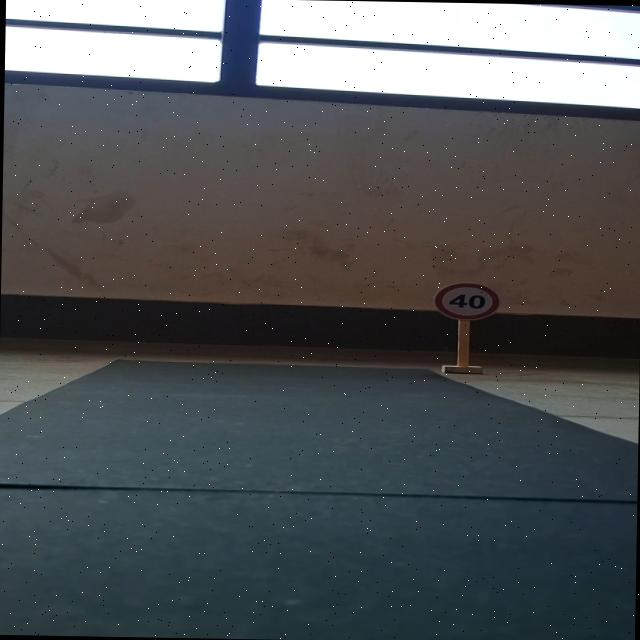Speed40: (430, 278, 503, 322)
